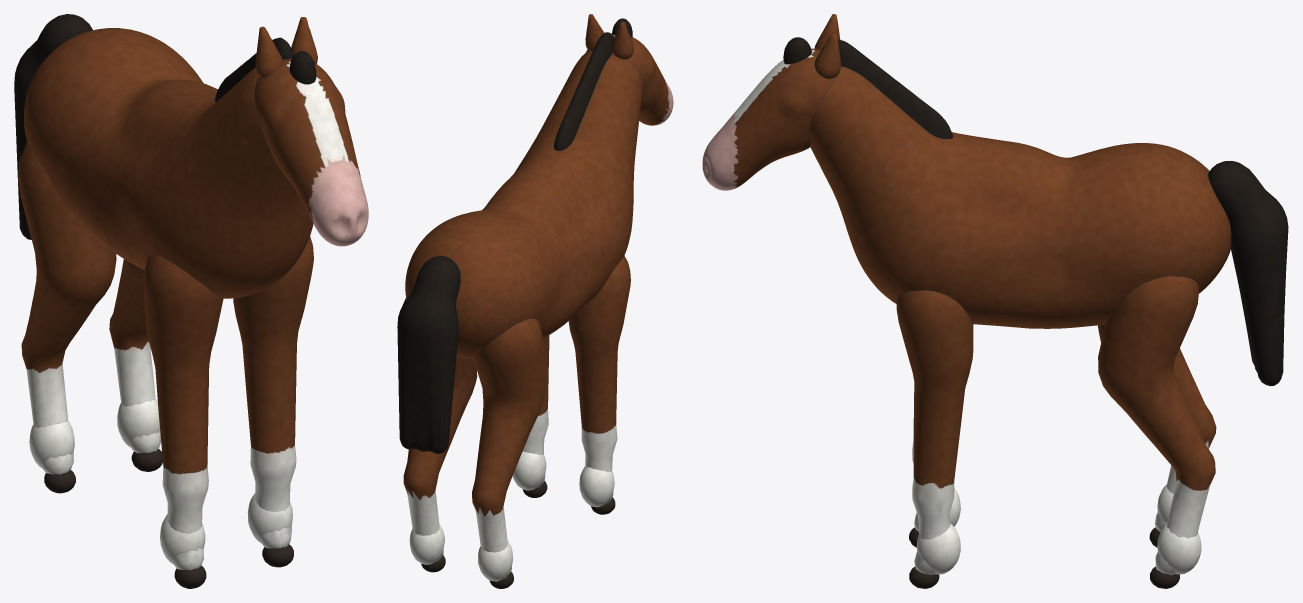
The model's file is animal_clydesdale.glb.
3 renders of one model, left to right at view 1: azimuth 30°, elevation 25°; view 2: azimuth 150°, elevation 25°; view 3: azimuth 270°, elevation 25°, orthographic. The views are drawn at different scales.
Visible parts, largest first — view 1: animal_clydesdale, leg0, leg2, head, leg1, leg3, tail; view 2: animal_clydesdale, leg2, tail, leg0, leg3, head, leg1; view 3: animal_clydesdale, leg3, leg1, head, tail, leg2.
Part boxes in pixels (x1,y1,x2,y2): animal_clydesdale: (24, 28, 313, 298); leg0: (143, 254, 223, 588); leg2: (18, 142, 116, 493); head: (254, 17, 368, 246); leg1: (233, 236, 313, 567); leg3: (109, 259, 162, 471); tail: (14, 14, 92, 239); animal_clydesdale: (405, 32, 642, 359); leg2: (472, 318, 545, 588); tail: (397, 256, 460, 453); leg0: (568, 256, 630, 514); leg3: (402, 298, 477, 572); head: (585, 14, 673, 125); leg1: (512, 335, 549, 497); animal_clydesdale: (810, 39, 1231, 328); leg3: (1098, 276, 1215, 588); leg1: (896, 290, 973, 588); head: (702, 14, 841, 190); tail: (1208, 161, 1288, 386); leg2: (1098, 324, 1216, 547).
Bounding box in the file's own units: 0.2769 × 0.9215 × 0.9.
1 material, 1 textured.
